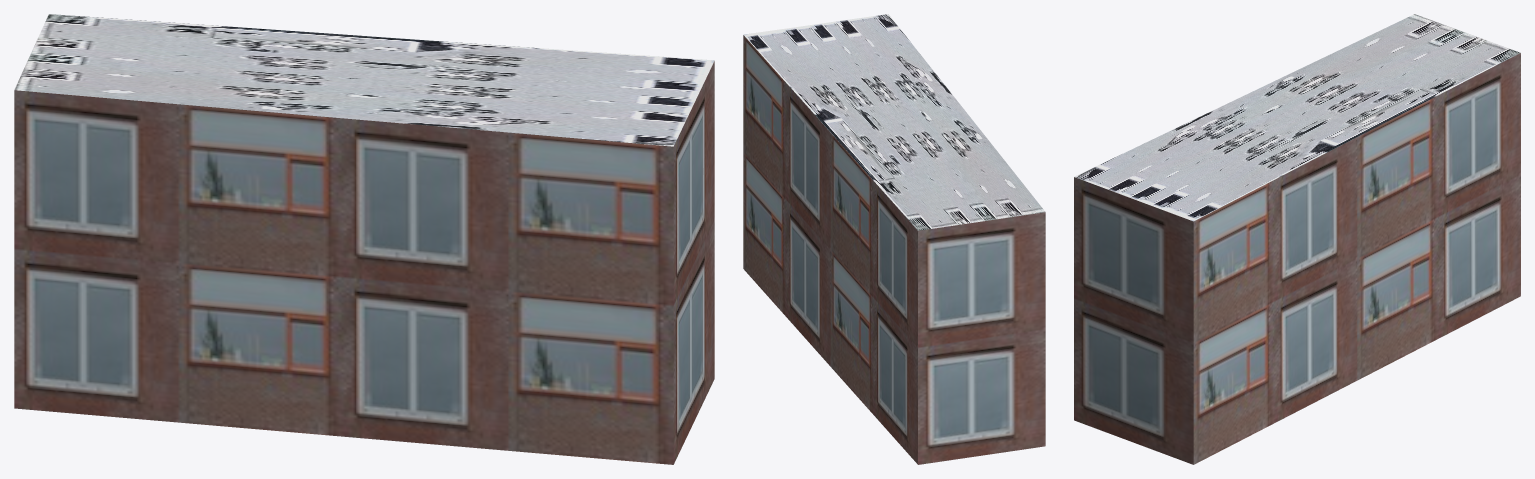
File: ResTex__978.fbx
3 views of the same model, side by side, from view 1: azimuth 30°, elevation 25°; view 2: azimuth 150°, elevation 25°; view 3: azimuth 270°, elevation 25° (orthographic). The views are drawn at different scales.
Visible parts, largest first — view 1: CityEngineMaterial_19_m, CityEngineMaterial_15_m; view 2: CityEngineMaterial_19_m, CityEngineMaterial_15_m; view 3: CityEngineMaterial_19_m, CityEngineMaterial_15_m.
Boxes of the visible parts, <box> form: CityEngineMaterial_19_m: <box>14,61,714,464</box>; CityEngineMaterial_15_m: <box>14,14,714,146</box>; CityEngineMaterial_19_m: <box>743,35,1045,464</box>; CityEngineMaterial_15_m: <box>743,14,1045,230</box>; CityEngineMaterial_19_m: <box>1074,53,1520,464</box>; CityEngineMaterial_15_m: <box>1074,14,1520,221</box>.
Size of the model in its own units: 10.97 by 6 by 9.98.
2 materials, 2 textured.
